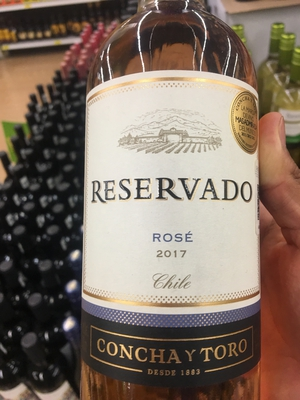reservado rose: (78, 8, 266, 400)
